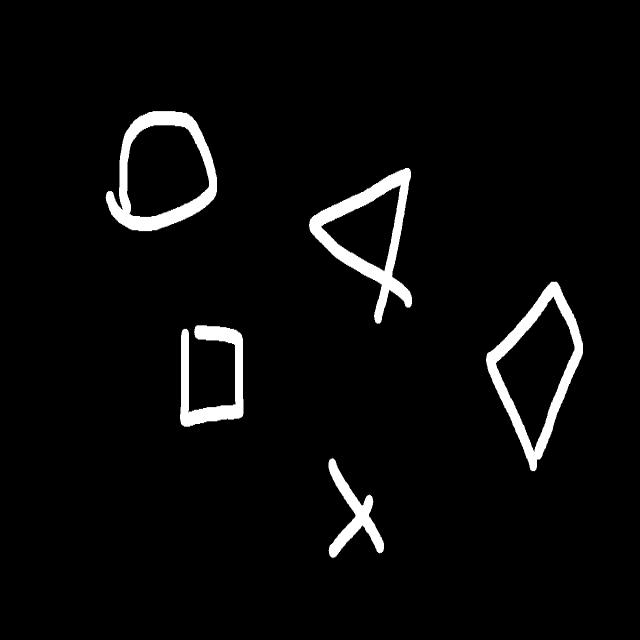Circle: (106, 111, 216, 230)
Cross: (328, 459, 384, 557)
Diamond: (486, 282, 583, 471)
Square: (181, 326, 244, 427)
Triangle: (310, 169, 412, 323)
